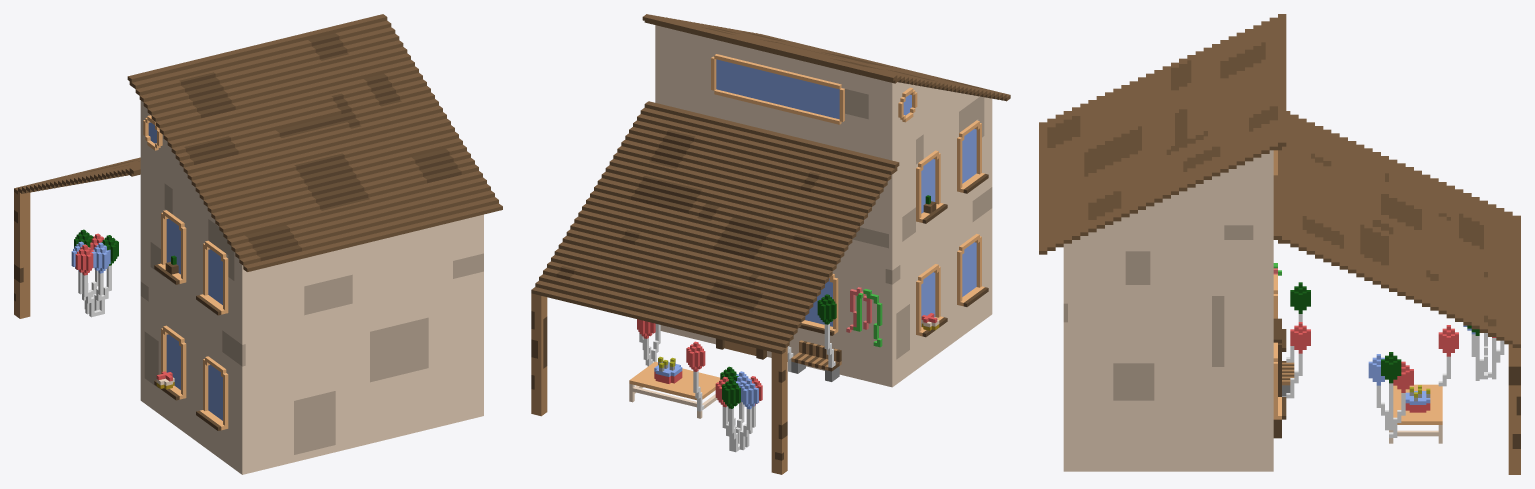
File: house3.obj
3 views of the same model, side by side, from view 1: azimuth 30°, elevation 25°; view 2: azimuth 150°, elevation 25°; view 3: azimuth 270°, elevation 25° (orthographic). The views are drawn at different scales.
Bounding box in the file's own units: 7.6 × 8.9 × 11.7.
Materials: 1 (1 with a texture image).
